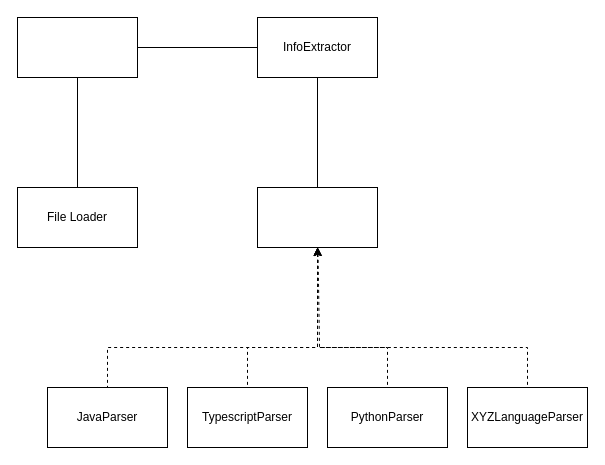
The diagram is 605 pixels wide and 465 high, and some of its shapes have lost their labels. Here are the shapes that lost their labels. From the top down, the centre of each, then its label:
the point at 77,47: Console Application
the point at 317,217: ILanguageParser
